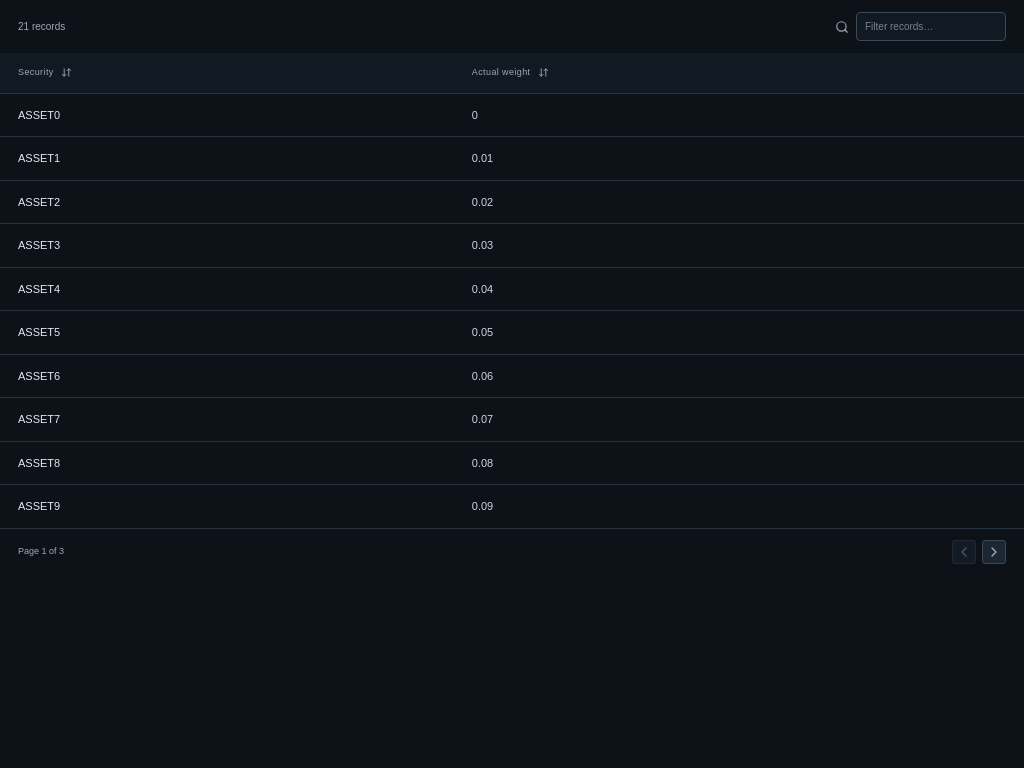
Test case: filters, sorts and paginates real table records
Click the button named "Next table page". click: (994, 552)
box: [982,540,1006,564]
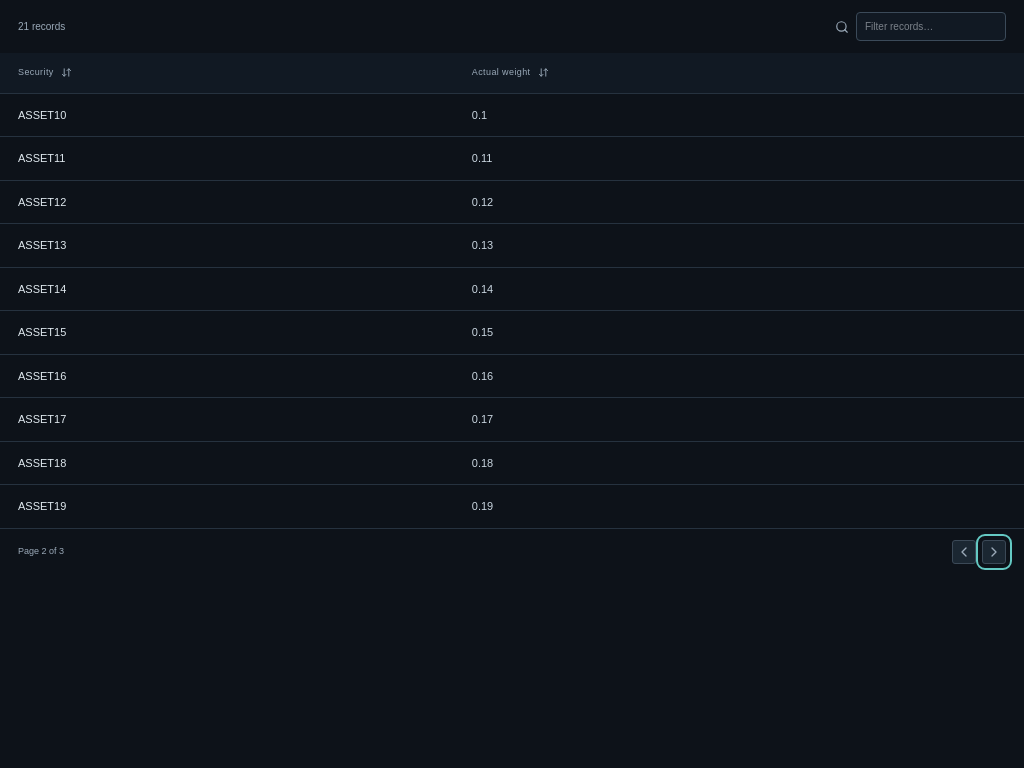
Expected: the text "Page 2 of 3" is shown, [18,545,64,558]
Type "ASSET20" into the field named "Filter Research records". click: (931, 26)
box: [856,12,1006,41]
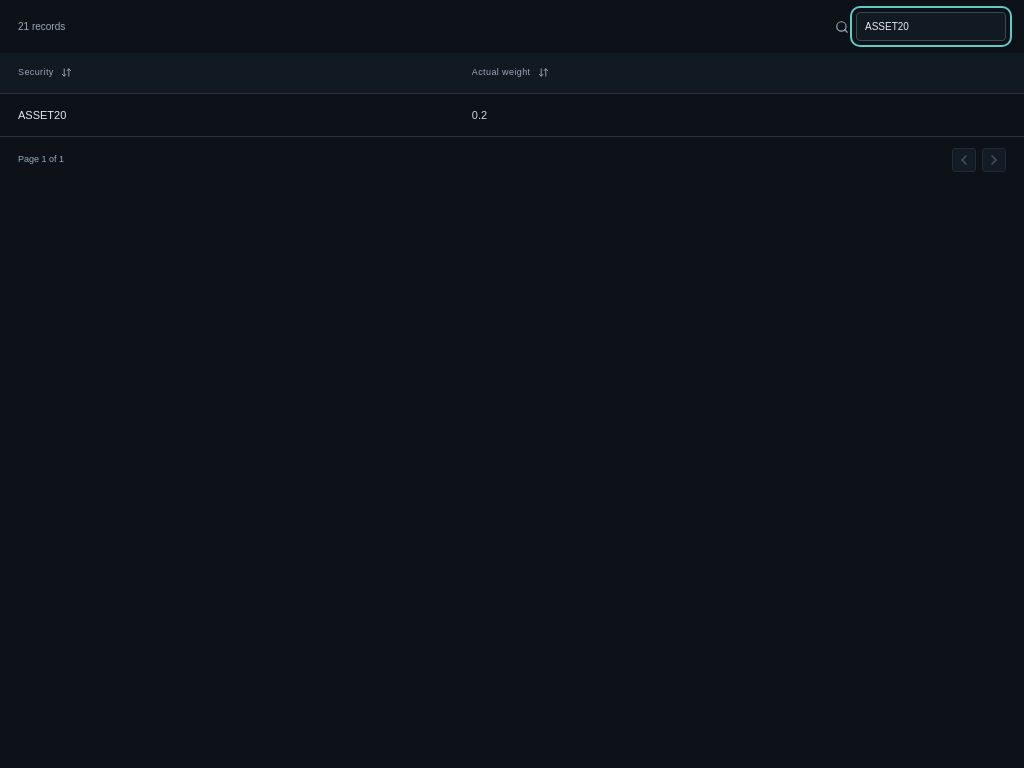
Expected: the text "ASSET20" is shown, [0,93,454,136]
Expected: the text "Page 1 of 1" is shown, [18,153,64,167]
